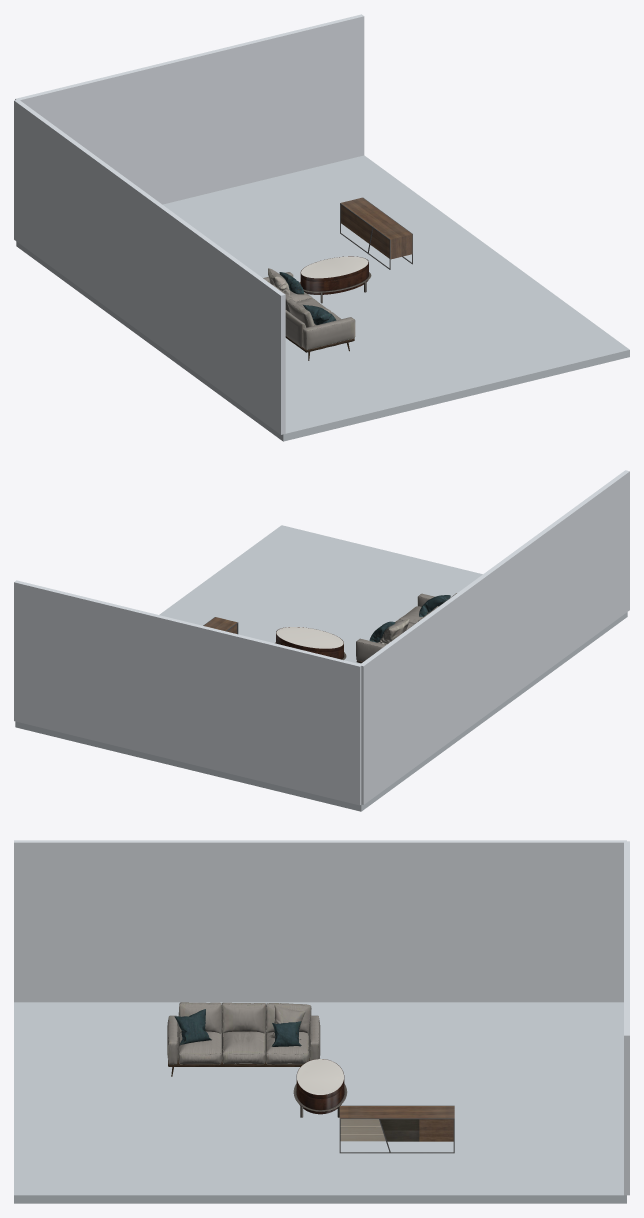
File: stage1.glb
3 views of the same model, one above another, from view 1: azimuth 30°, elevation 25°; view 2: azimuth 150°, elevation 25°; view 3: azimuth 270°, elevation 25° (orthographic). The views are drawn at different scales.
Parts seen in each view (by area): view 1: Floor, wall_back, wall_left, raw_model, raw_model.002, raw_model.001; view 2: wall_back, wall_left, Floor, raw_model, raw_model.001; view 3: Floor, wall_left, raw_model, raw_model.002, raw_model.001, wall_back.
Part boxes in pixels (box(x1,y1,x2,y2)): Floor: box(16, 155, 629, 441); wall_back: box(15, 14, 364, 204); wall_left: box(14, 100, 285, 434); raw_model: box(263, 268, 355, 360); raw_model.002: box(340, 197, 412, 269); raw_model.001: box(299, 256, 371, 303); wall_back: box(14, 580, 361, 805); wall_left: box(360, 470, 629, 804); Floor: box(15, 525, 627, 811); raw_model: box(356, 593, 456, 663); raw_model.001: box(275, 627, 346, 659); Floor: box(14, 1002, 626, 1203); wall_left: box(14, 840, 626, 1002); raw_model: box(167, 1002, 320, 1076); raw_model.002: box(339, 1105, 454, 1153); raw_model.001: box(293, 1059, 347, 1117); wall_back: box(624, 841, 629, 1195).
Size of the model in its own units: 6.04 by 2.42 by 8.04.
5 materials, 3 textured.
